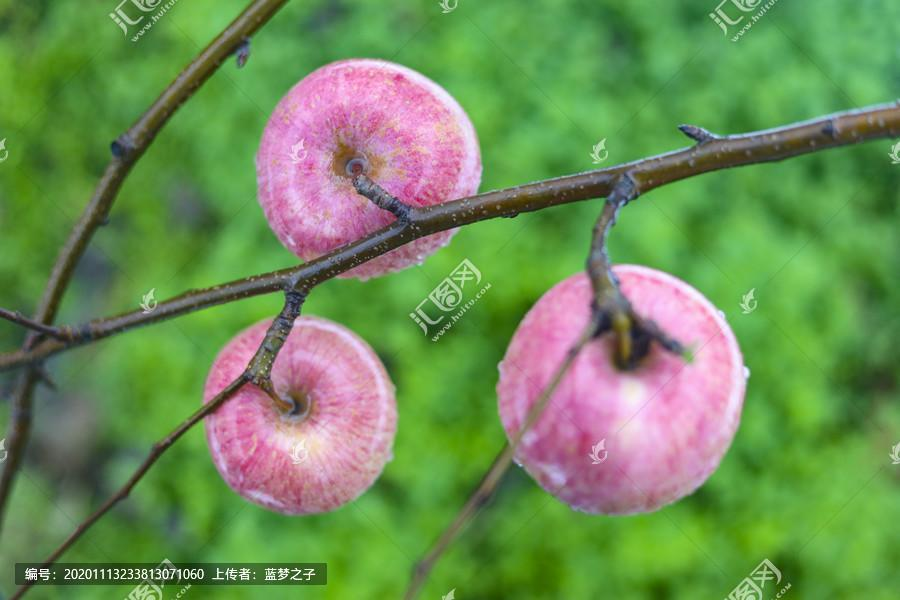apple: (253, 56, 483, 277), (195, 313, 399, 513)
